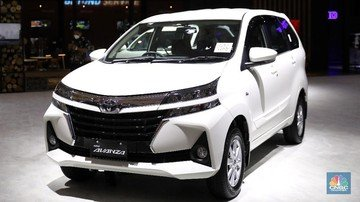mobil: (40, 9, 311, 195)
